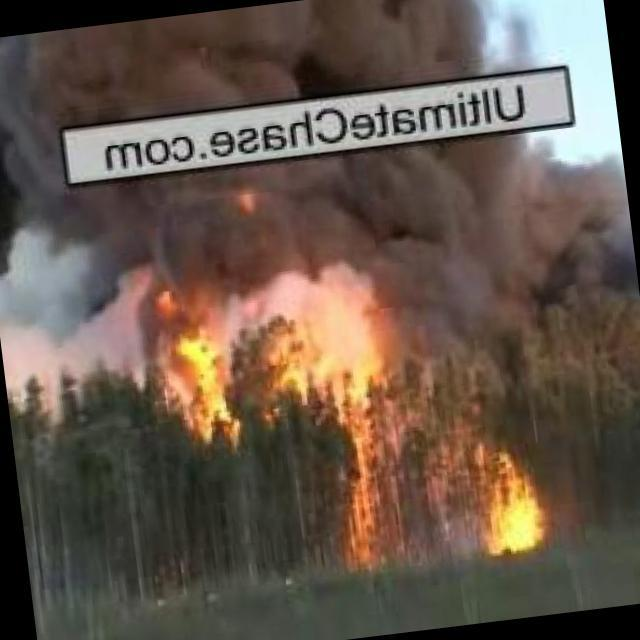Fire: (309, 351, 403, 568), (166, 292, 244, 447), (467, 441, 555, 545)
